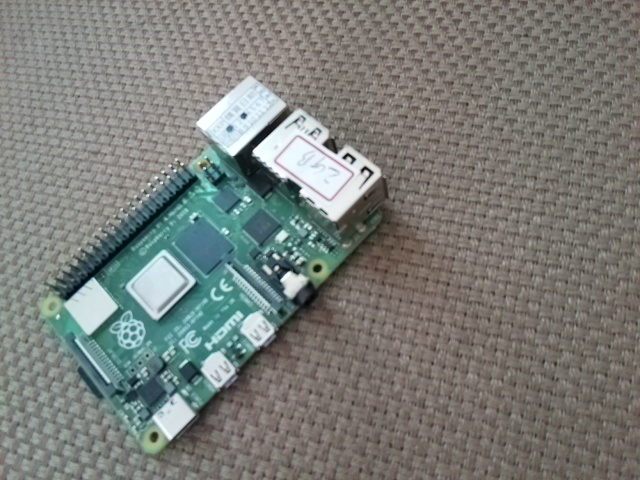Pi4: (31, 69, 395, 460)
